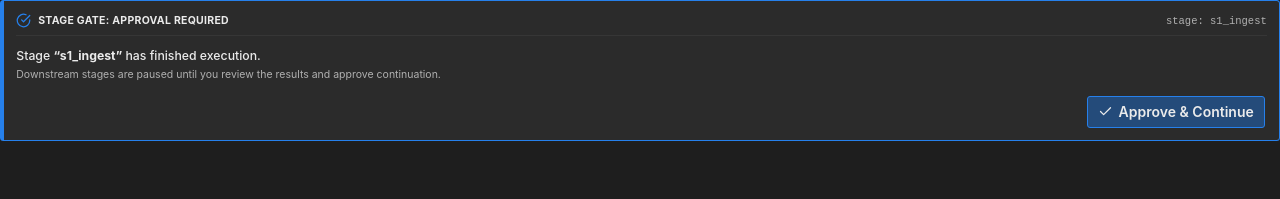
it: StageApprovalCard component (Task 6.6) › displays error banner if approveStage fails
Click the button "Approve & Continue" at (1176, 112), box [1087,96,1265,128]
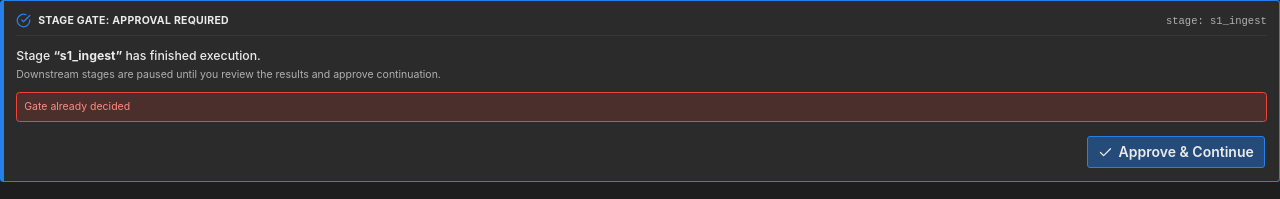
Now the message reads "Gate already decided", box [24,100,130,113]
